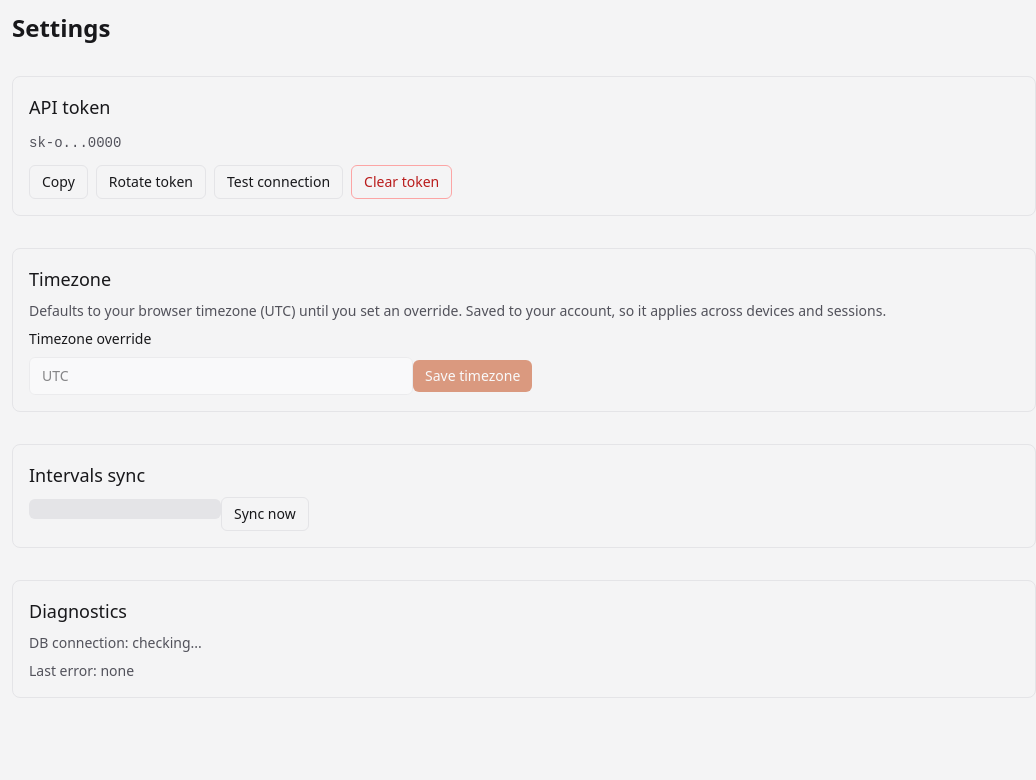
Scenario: SettingsPage › rotates the token by re-storing a newly pasted value
This screenshot has width=1036, height=780.
Click the button "Rotate token" at (151, 182), box [96,165,206,199]
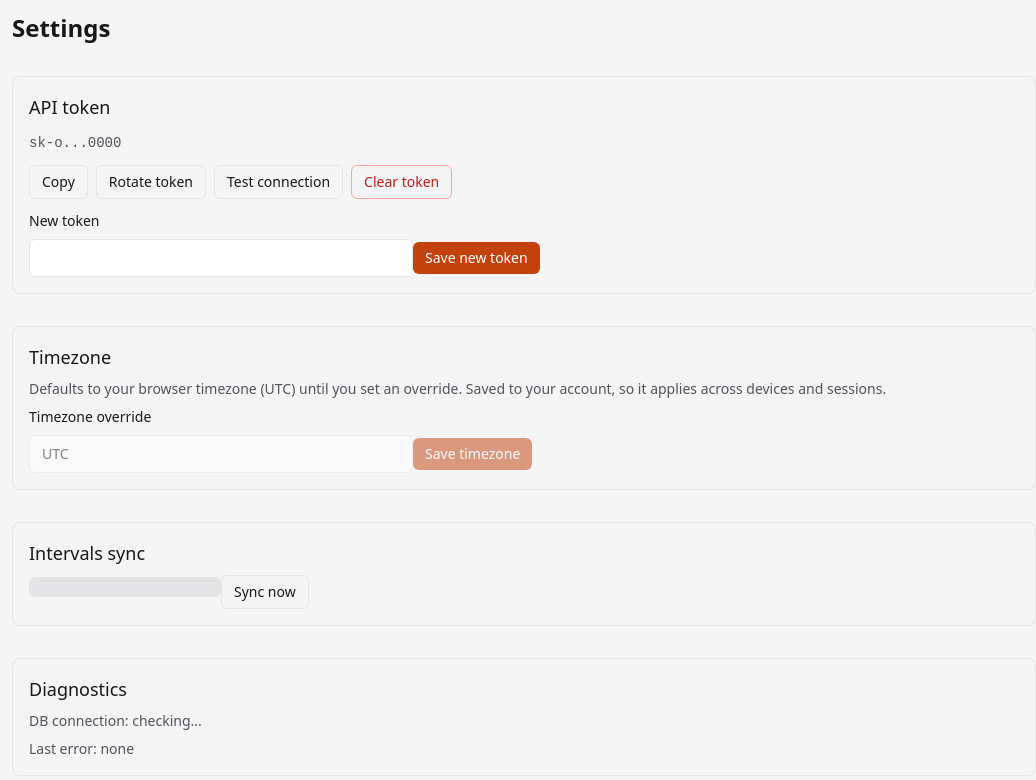
Type "sk-newtoken999999" into the password field labelled "New token" at (221, 258), box [29,239,413,277]
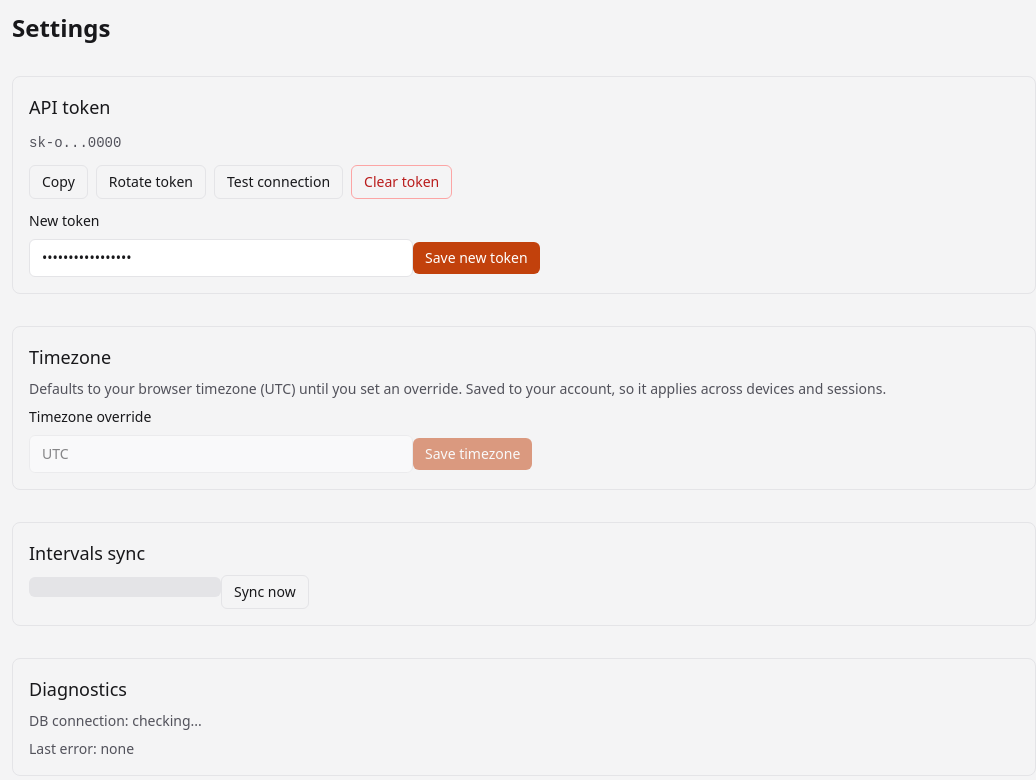
Click the button "Save new token" at (476, 258), box [413,242,540,274]
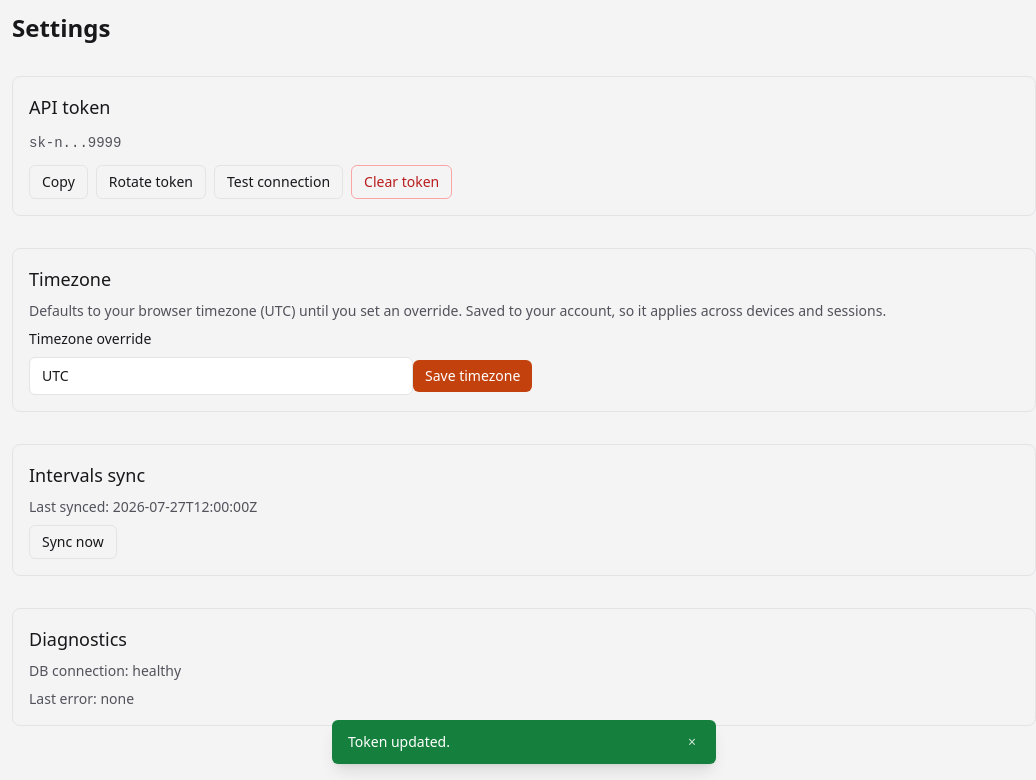
Expected: the text "Token updated." is shown, [348,732,450,752]
